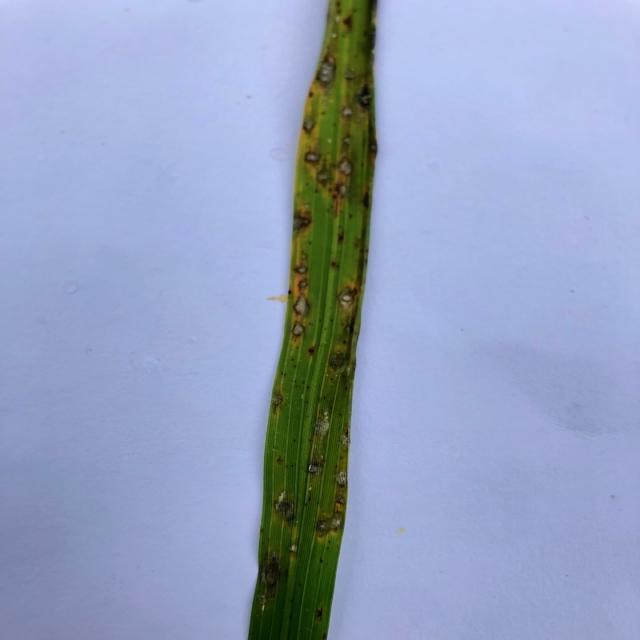Leaf_Blast: (256, 553, 283, 608), (318, 341, 354, 381), (274, 485, 301, 535), (313, 52, 342, 93), (290, 199, 318, 241), (336, 281, 363, 324), (312, 398, 335, 445), (290, 292, 316, 324), (300, 450, 325, 481), (267, 388, 292, 419), (354, 82, 376, 114), (311, 516, 336, 544), (333, 153, 362, 177), (288, 318, 309, 347), (300, 144, 326, 164), (337, 103, 359, 126), (289, 536, 306, 562), (300, 114, 318, 137), (293, 261, 314, 280), (326, 507, 342, 531), (292, 278, 316, 293), (334, 465, 347, 490), (316, 167, 332, 186), (340, 427, 352, 452)
